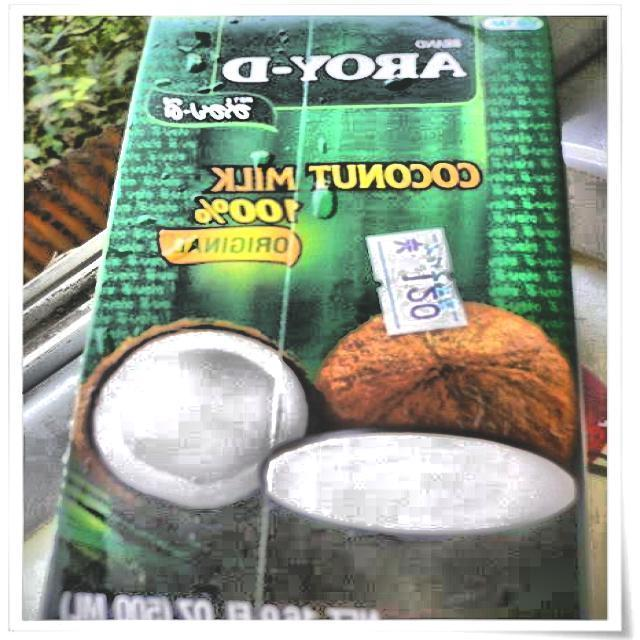cardboard: (40, 15, 596, 621)
